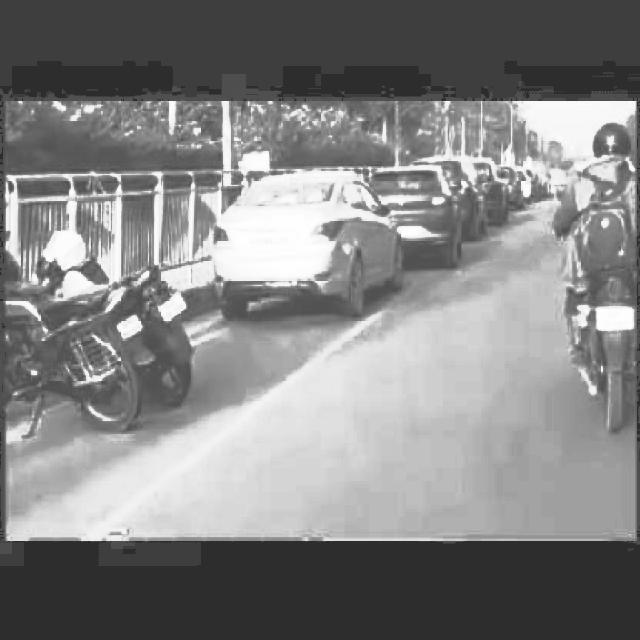Car: (208, 149, 393, 325), (386, 158, 461, 252), (474, 141, 518, 224)
